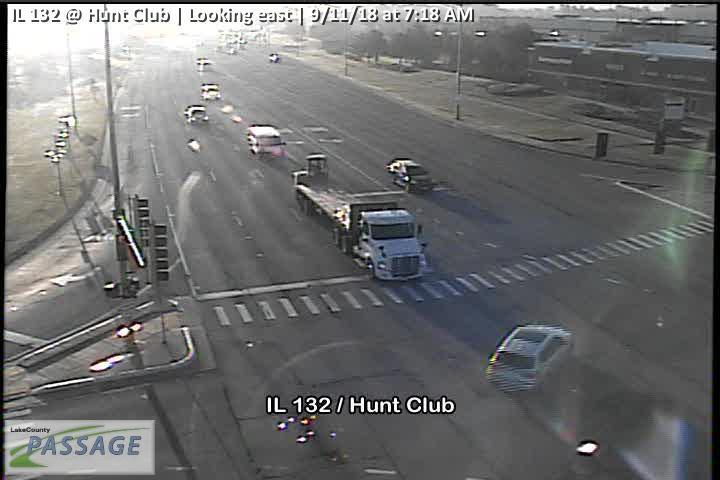Sedan: (485, 325, 572, 391), (384, 157, 434, 195)
Truck: (291, 154, 430, 283)
